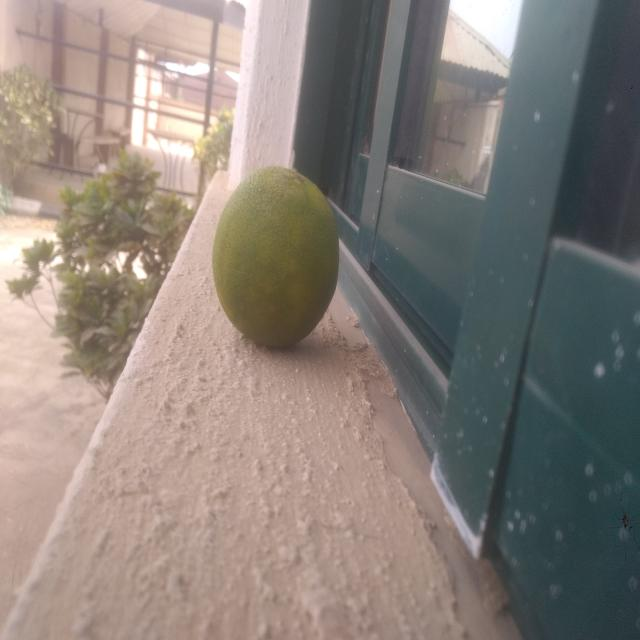Unripe: (209, 113, 348, 398)
